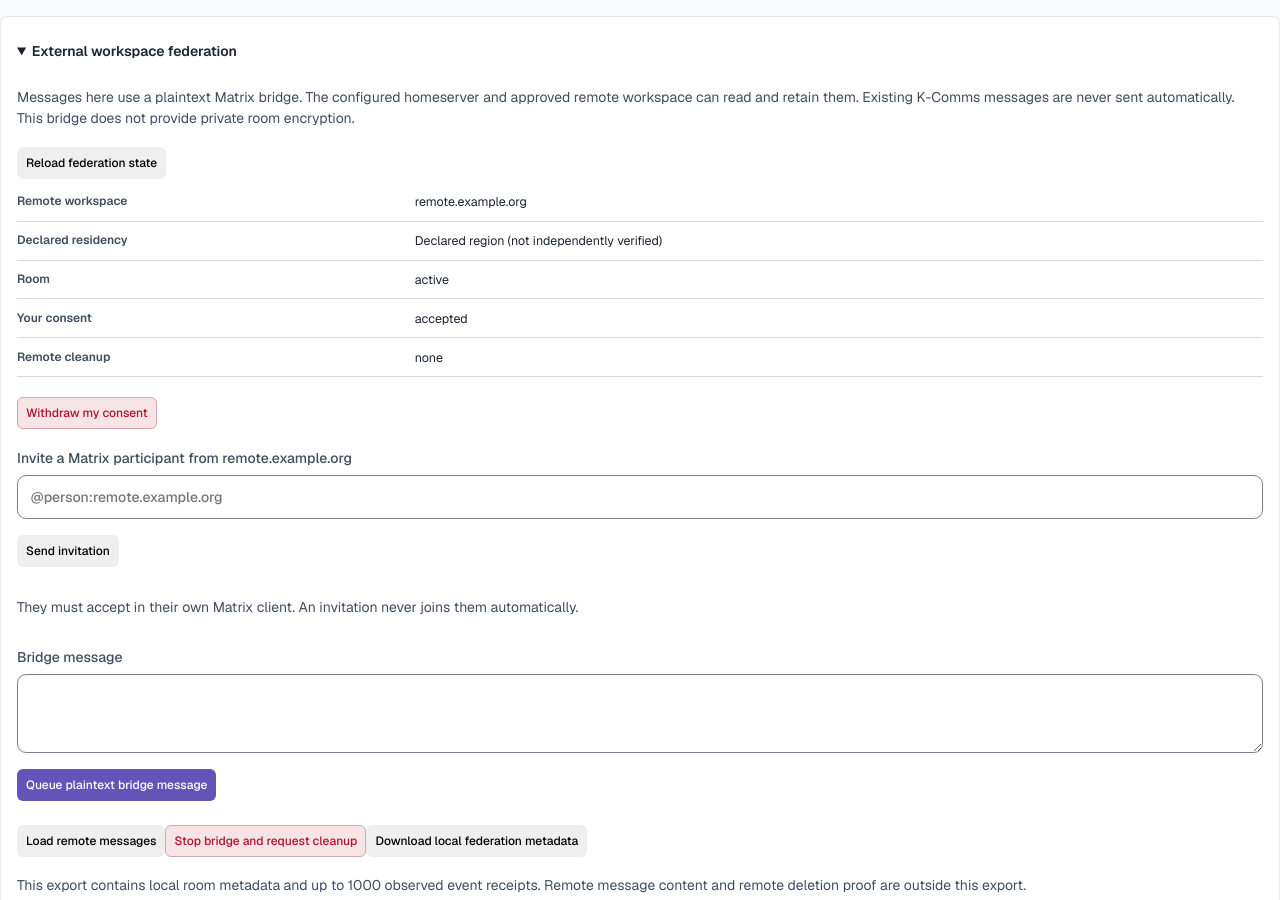
explicit plaintext federation controls › withdrawal clears remote messages and retains the honest pending cleanup explanation
Click the button "Withdraw my consent".
click(87, 413)  # box [17,397,157,429]
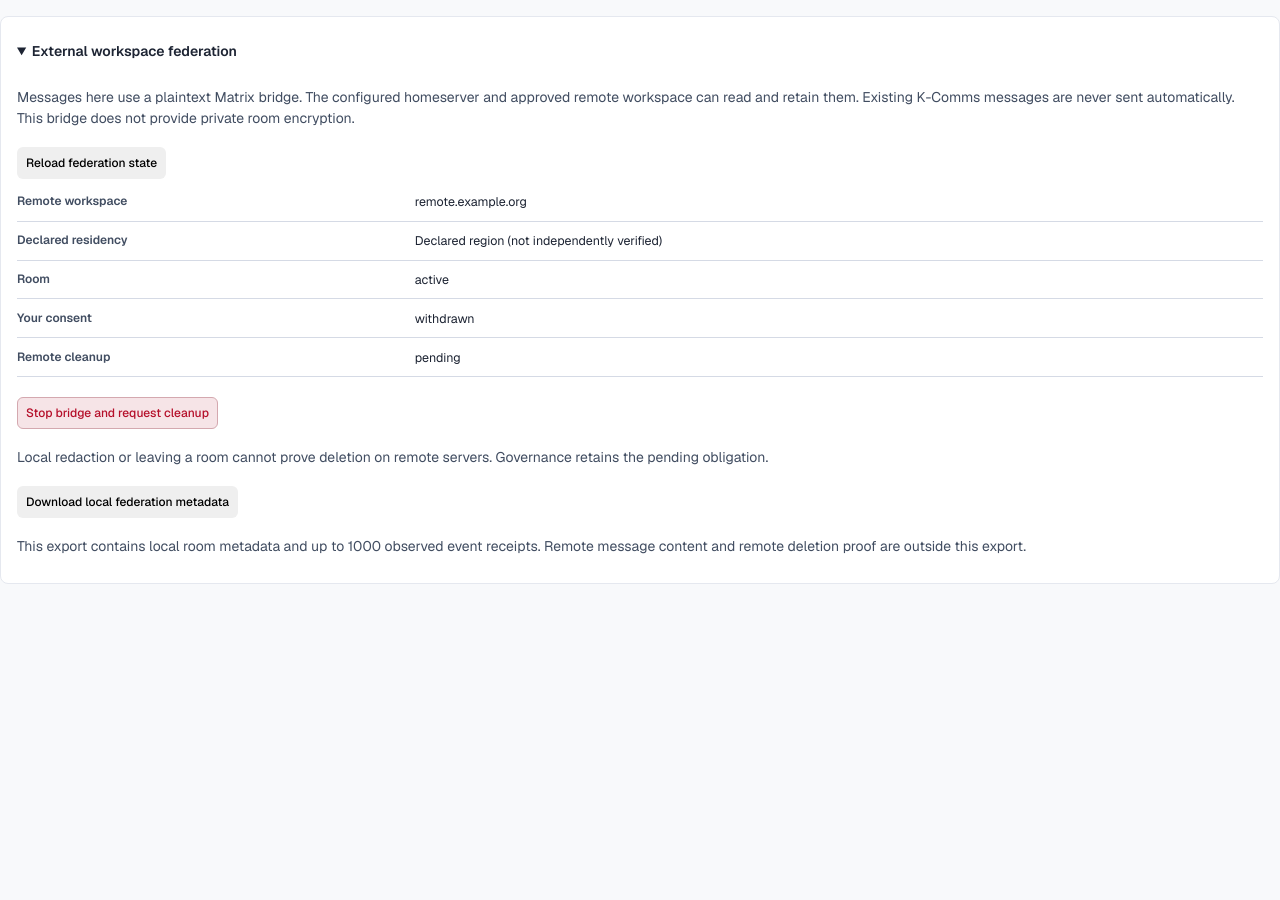
Expected: the text "Local redaction or leaving a room cannot prove deletion" is shown, [17,448,768,466]
Expected: the button "Queue plaintext bridge message" is gone
